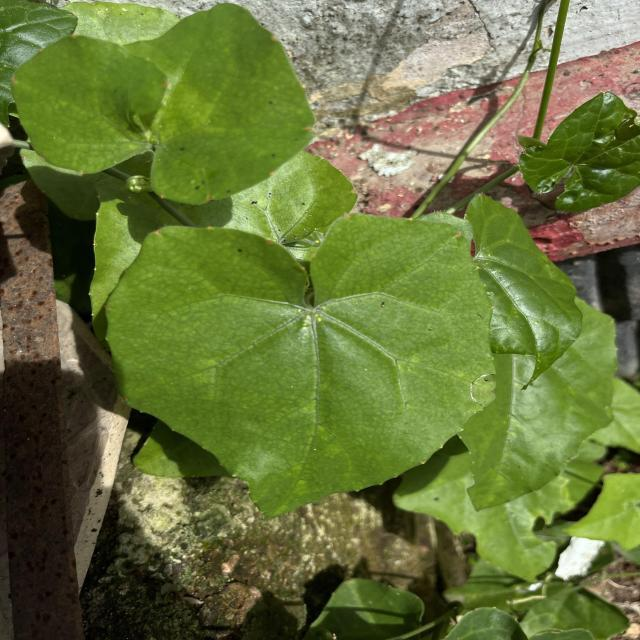Coccinia grandis: (100, 209, 504, 521)
